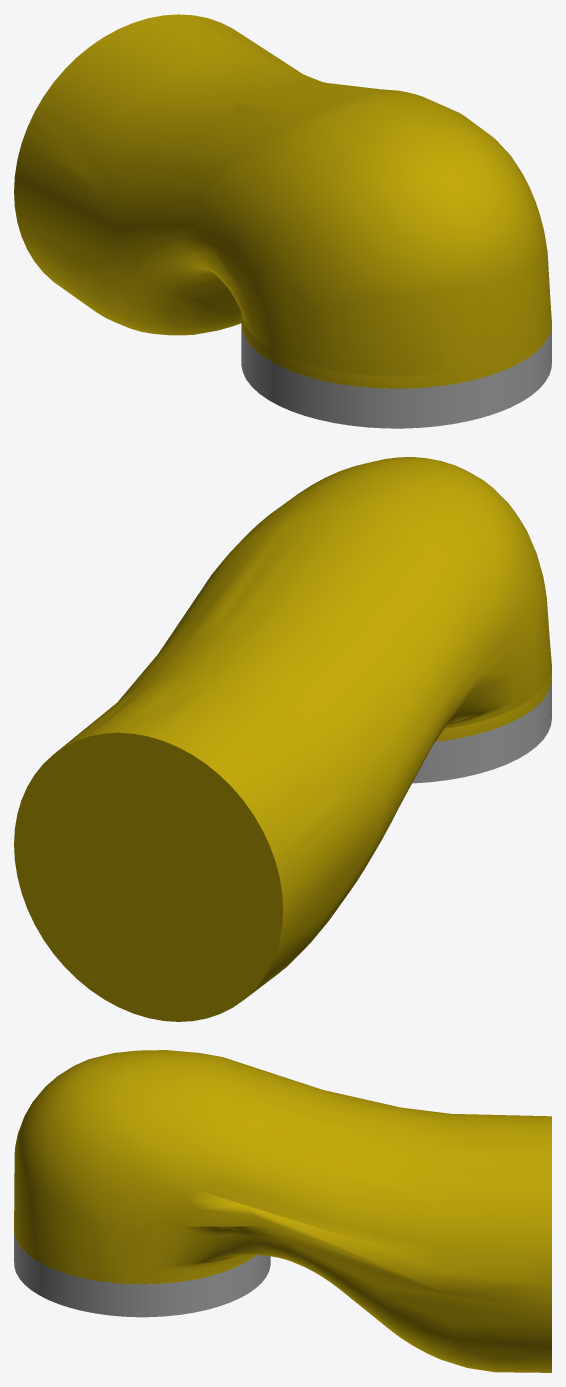
The model's file is LWR_Link2.dae.
3 views of the same model, one above another, from view 1: azimuth 30°, elevation 25°; view 2: azimuth 150°, elevation 25°; view 3: azimuth 270°, elevation 25° (orthographic). The views are drawn at different scales.
Visible parts, largest first — view 1: Mesh_006, Mesh_020; view 2: Mesh_006, Mesh_020; view 3: Mesh_006, Mesh_020.
Part boxes in pixels (box(x1,y1,x2,y2)): Mesh_006: box(14, 14, 551, 388); Mesh_020: box(241, 320, 551, 428); Mesh_006: box(14, 457, 551, 1021); Mesh_020: box(412, 677, 551, 783); Mesh_006: box(14, 1050, 551, 1372); Mesh_020: box(14, 1231, 270, 1317).
Bounding box in the file's own units: 0.12 × 0.2515 × 0.1537.
